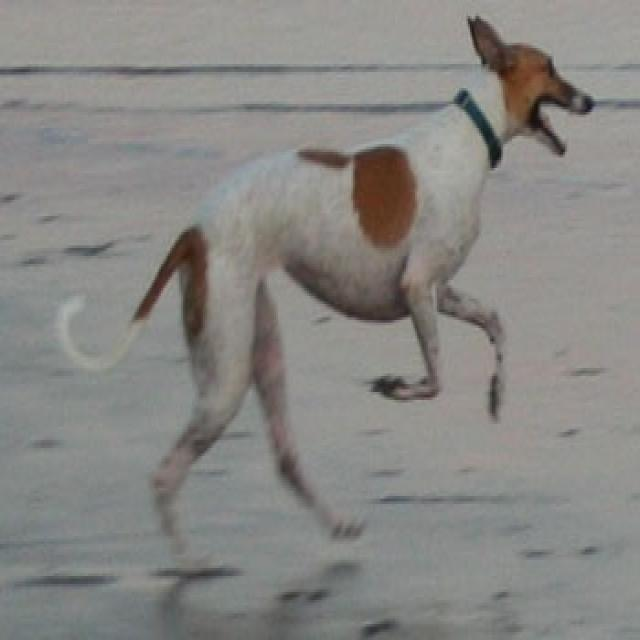dog: (55, 13, 596, 552)
